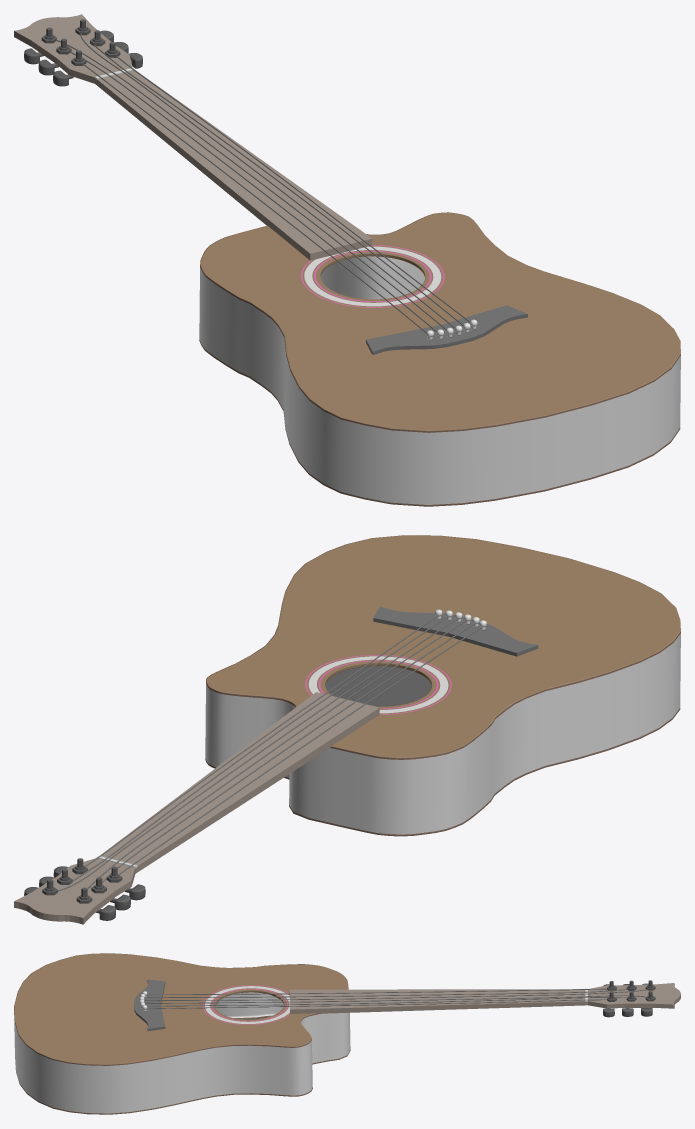
The model's file is guitare_t.fbx.
3 renders of one model, top to bottom at view 1: azimuth 30°, elevation 25°; view 2: azimuth 150°, elevation 25°; view 3: azimuth 270°, elevation 25°, orthographic. The views are drawn at different scales.
Visible parts, largest first — view 1: guitar_base; view 2: guitar_base; view 3: guitar_base.
Boxes of the visible parts, x1,y1,x2,y2 form: guitar_base: (14, 14, 680, 506); guitar_base: (14, 535, 680, 924); guitar_base: (14, 953, 680, 1114).
Size of the model in its own units: 37.74 by 11.42 by 95.39.
